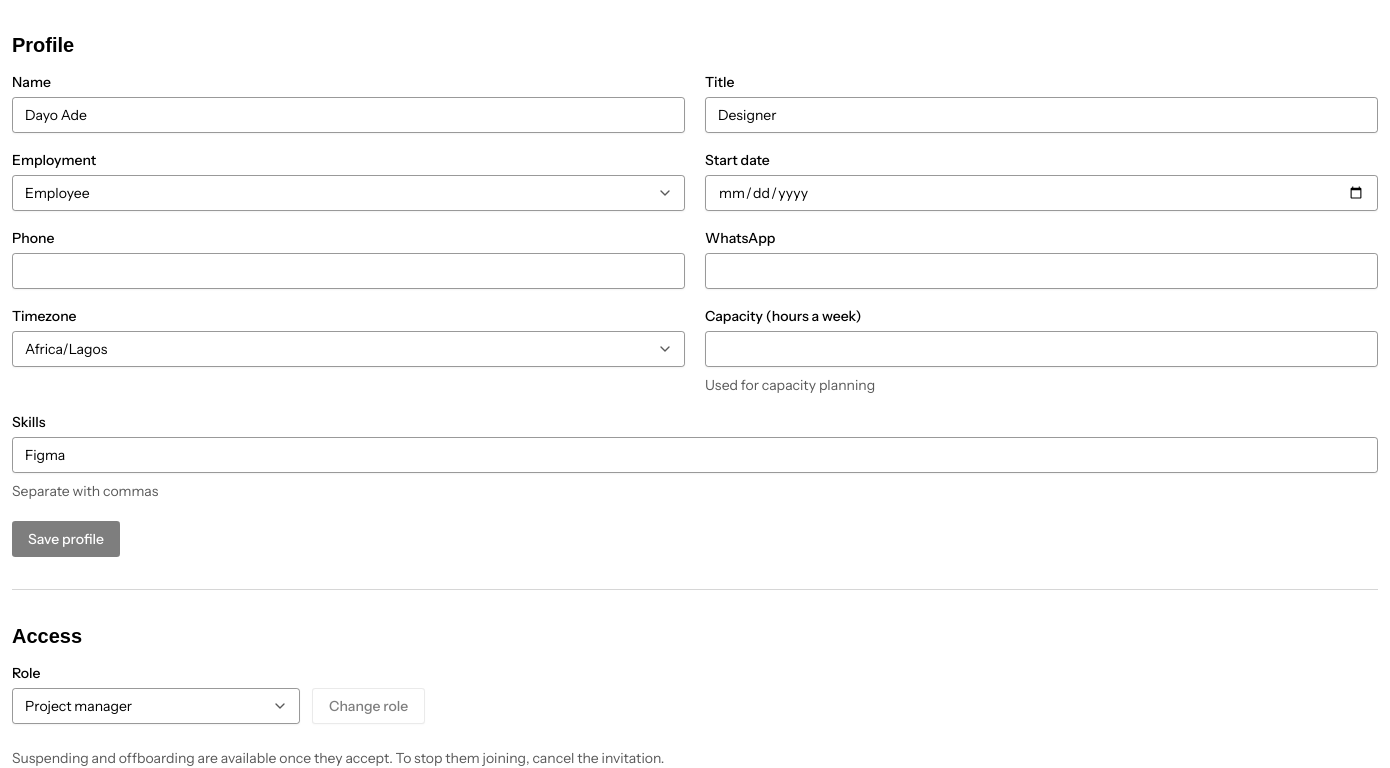
Scenario: MemberProfile › lets an admin fix the role of a pending invitation, without suspend or offboard
(page scrolled)
Expected: the heading "Access" is shown, [12, 625, 82, 647]
Select "Admin" in the dropdown labelled "Role" at (156, 706), box [12, 688, 300, 724]
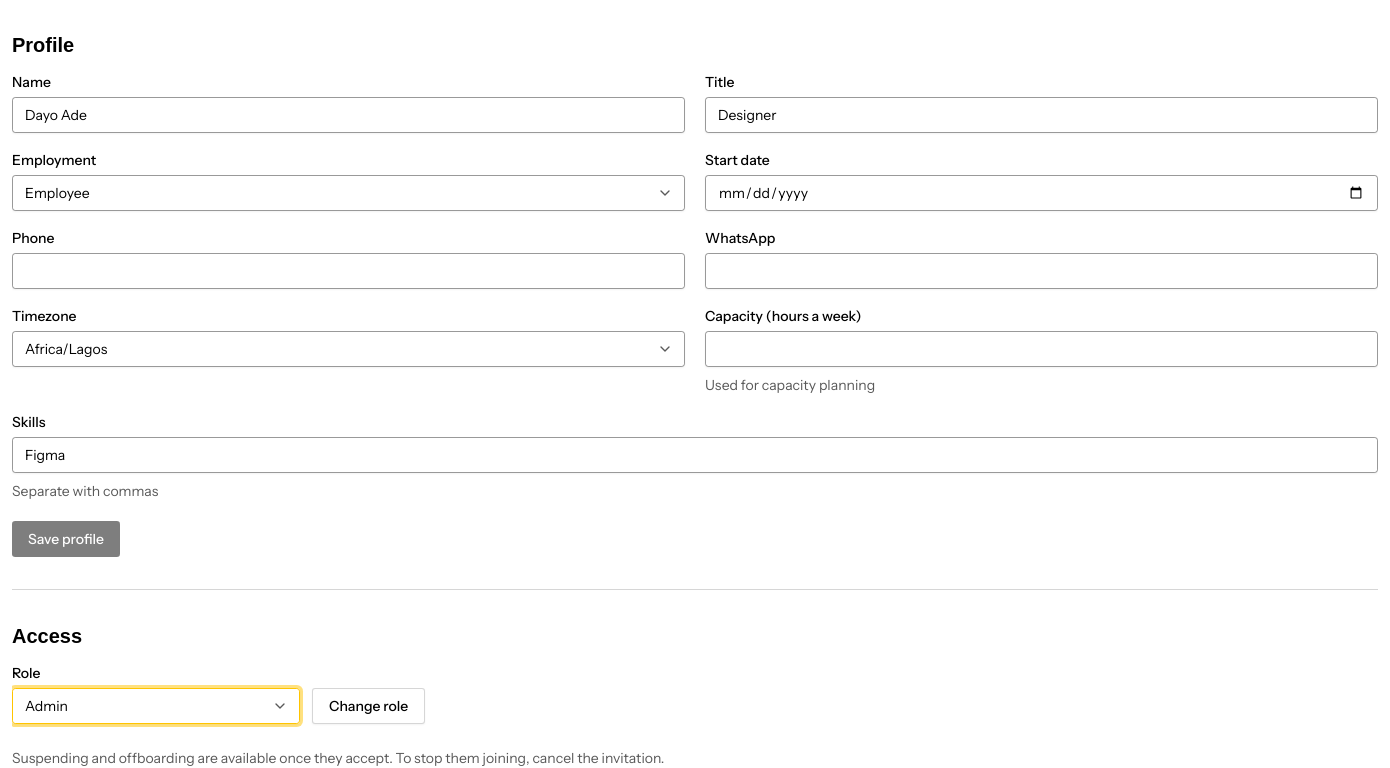
Click the button "Change role" at (369, 706), box [312, 688, 425, 724]
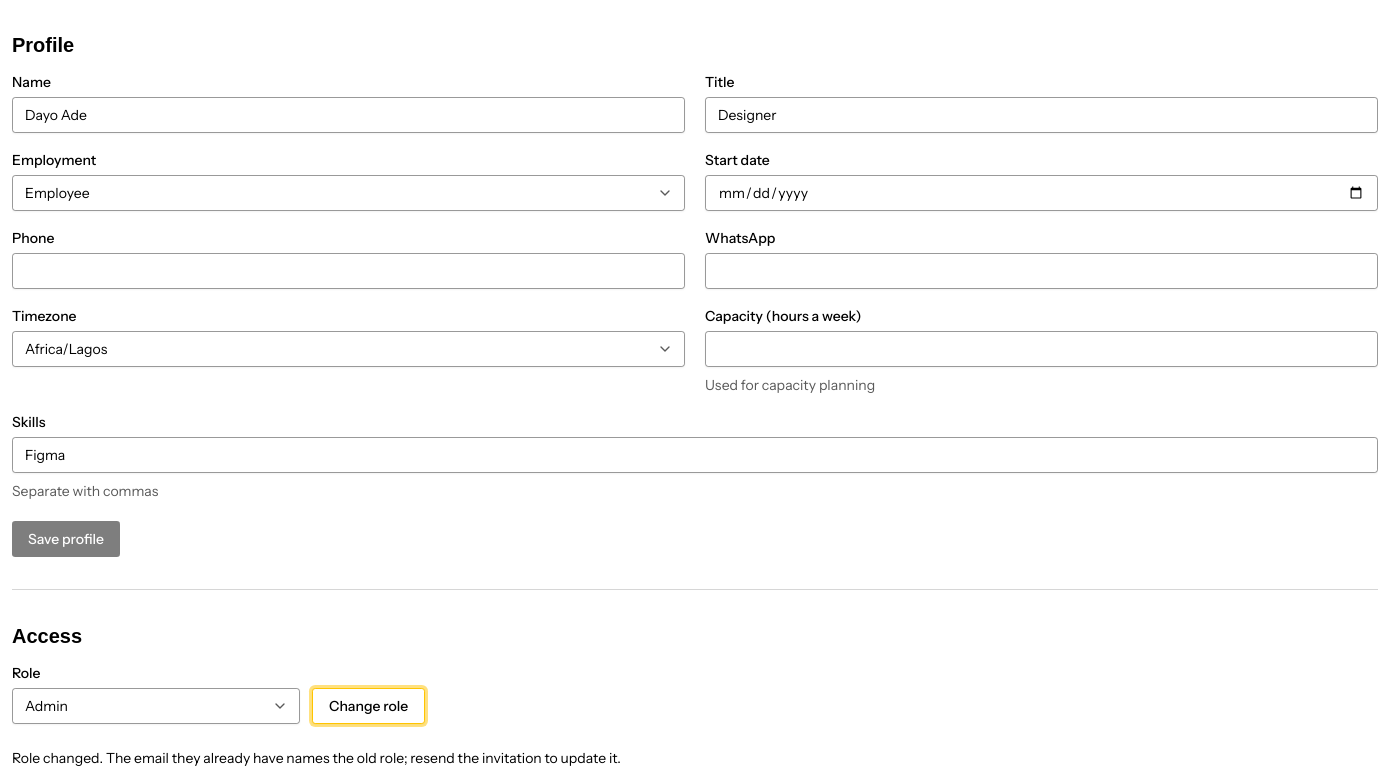
Expected: the text "resend the invitation to update it" is shown, [12, 749, 621, 767]
